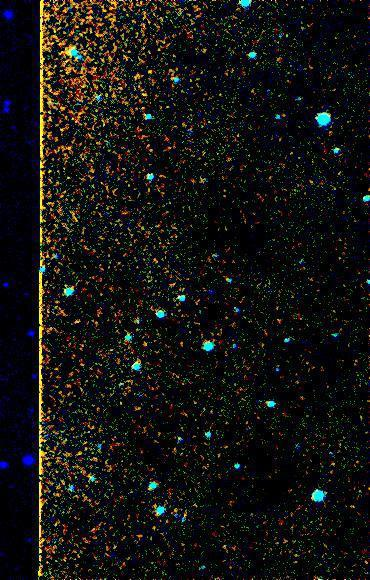star: (133, 59, 163, 89)
